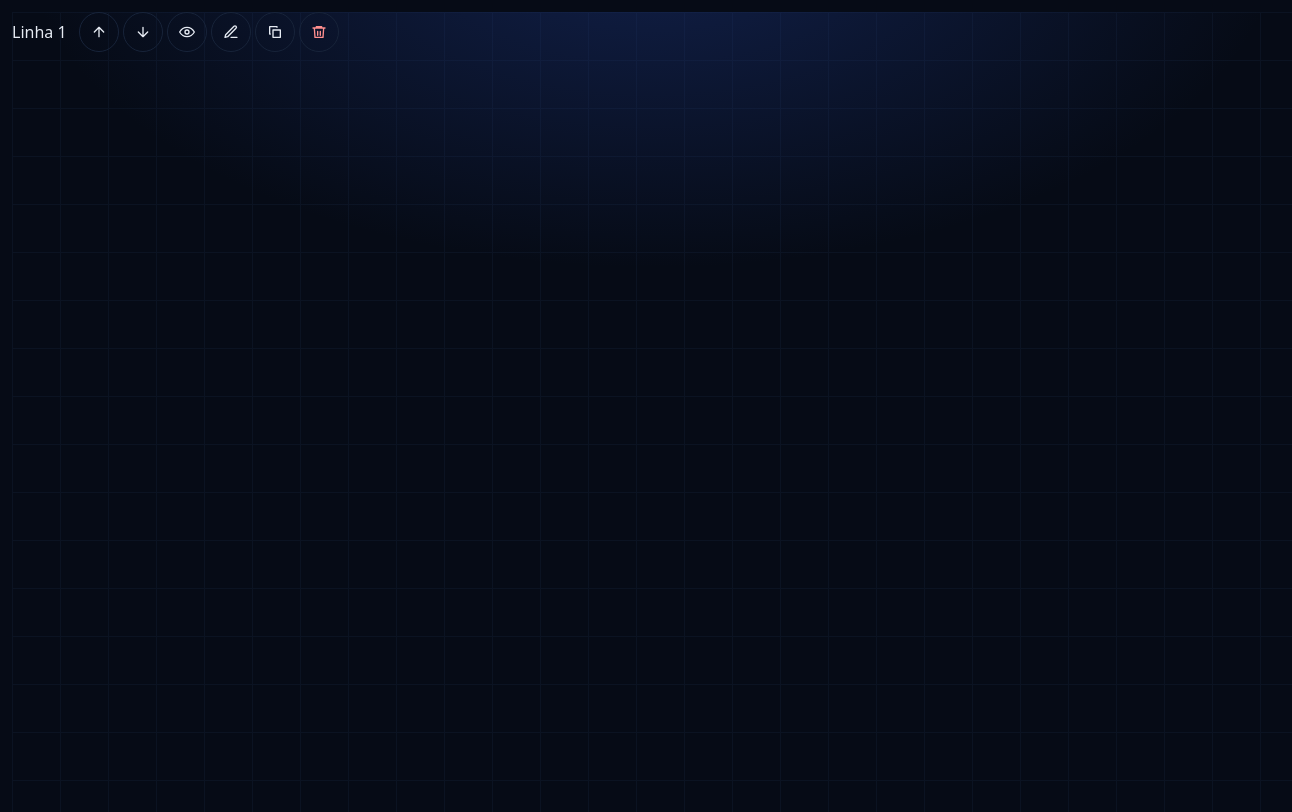
Test: RowActions › se apagar falha, a linha volta e avisa
What coordinates should you click on to do the following:
click the button named "Excluir"
I would click on:
 (319, 32)
Its box is x1=299 y1=12 x2=339 y2=52.
Wait 8000 ms
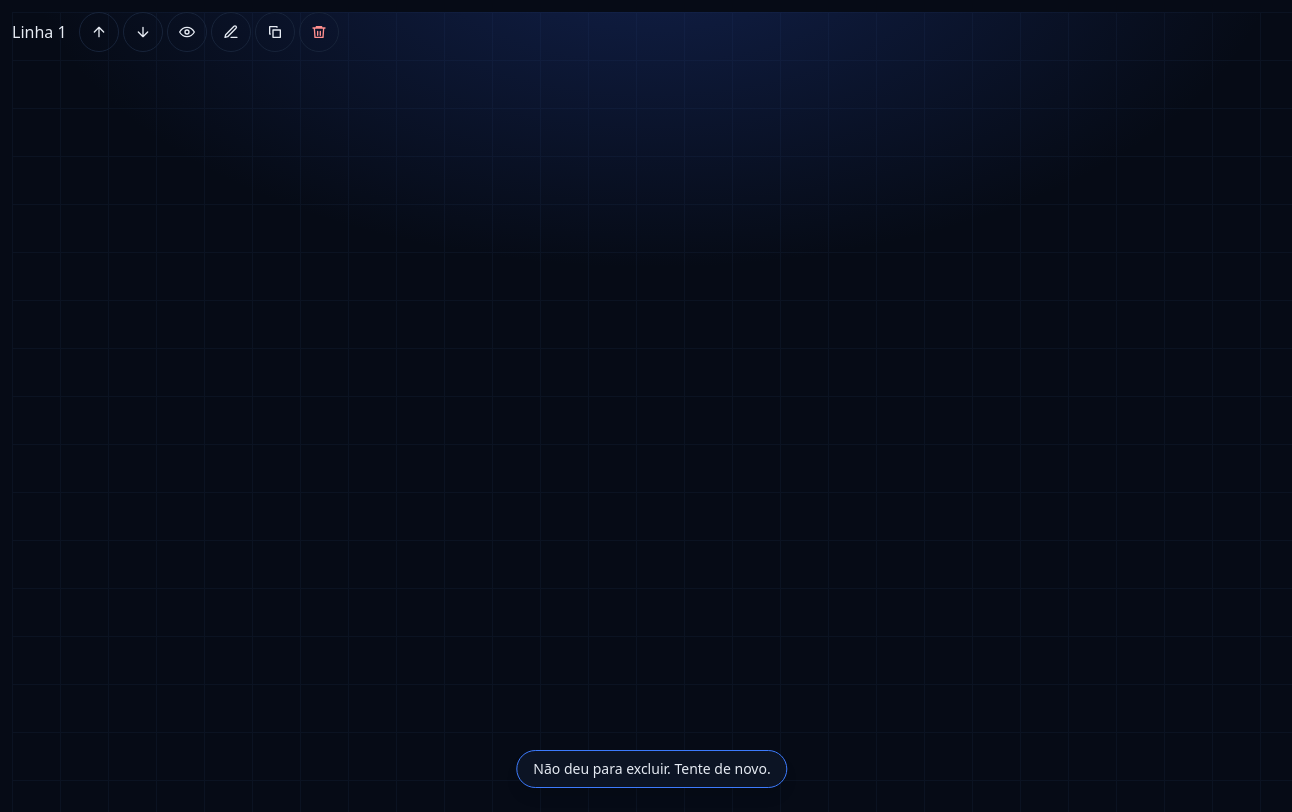
Check: the text "Linha 1" is shown, box x1=12 y1=20 x2=67 y2=44
Check: the text "Não deu para excluir. Tente de novo." is shown, box x1=516 y1=750 x2=788 y2=788
